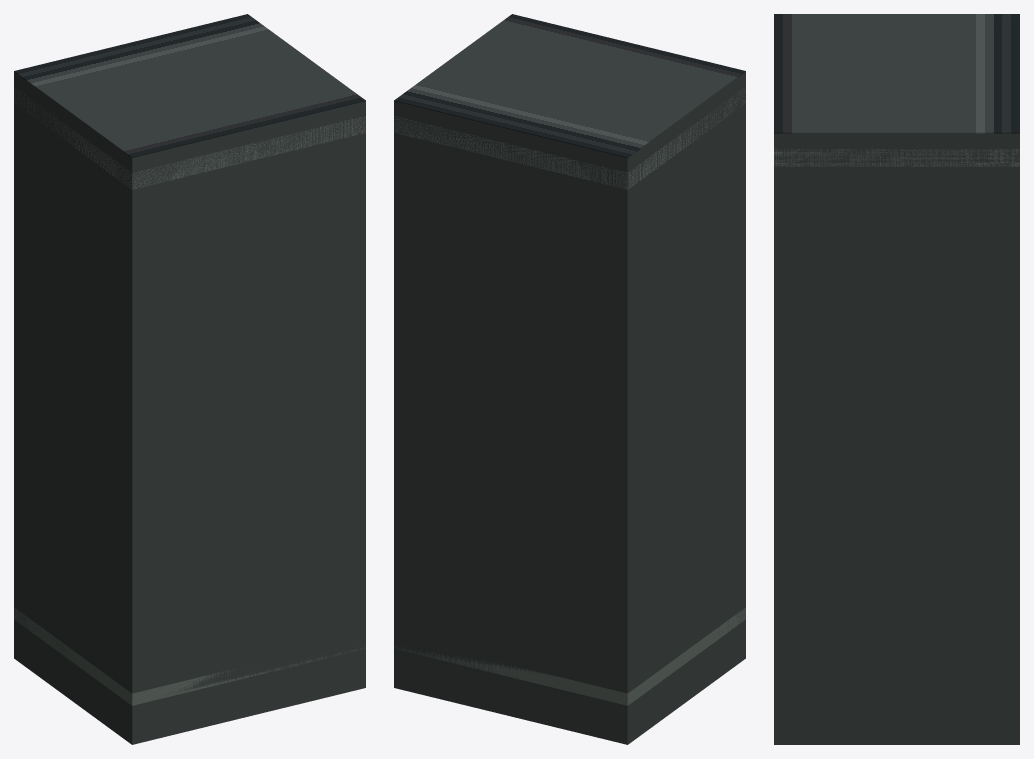
File: CMU3DInteriorVehicleAPCWallViewport.glb
3 views of the same model, side by side, from view 1: azimuth 30°, elevation 25°; view 2: azimuth 150°, elevation 25°; view 3: azimuth 270°, elevation 25° (orthographic). The views are drawn at different scales.
Visible parts, largest first — view 1: cabin bulkhead, cabin bulkhead source finish, upper armor trim, lower armor trim; view 2: cabin bulkhead, cabin bulkhead source finish, upper armor trim, lower armor trim; view 3: cabin bulkhead, cabin bulkhead source finish, upper armor trim.
Boxes of the visible parts, x1,y1,x2,y2 form: cabin bulkhead: [14, 72, 365, 744]; cabin bulkhead source finish: [14, 14, 365, 157]; upper armor trim: [14, 87, 365, 189]; lower armor trim: [14, 607, 365, 705]; cabin bulkhead: [394, 72, 745, 744]; cabin bulkhead source finish: [394, 14, 745, 157]; upper armor trim: [394, 88, 745, 189]; lower armor trim: [394, 607, 745, 705]; cabin bulkhead: [774, 133, 1019, 744]; cabin bulkhead source finish: [774, 14, 1019, 133]; upper armor trim: [774, 149, 1019, 166].
Bounding box in the file's own units: 1 × 2.4 × 0.875.
Materials: 4 (1 with a texture image).
